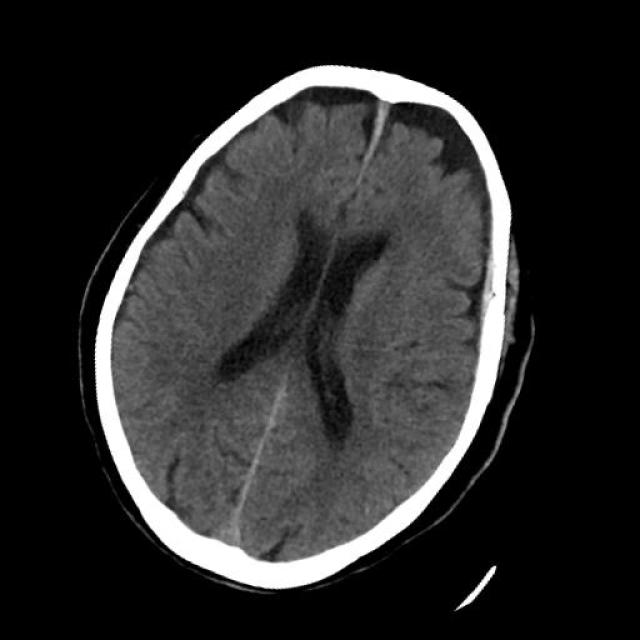Subdural: (434, 231, 548, 361)
